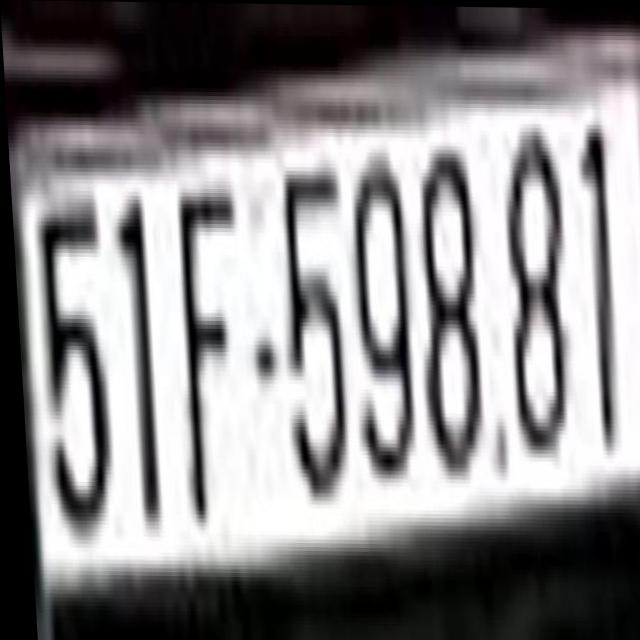1: (107, 183, 155, 522), (576, 115, 619, 457)
5: (275, 162, 351, 508), (33, 190, 108, 525)
8: (409, 148, 484, 483), (499, 126, 571, 460)
9: (347, 143, 412, 478)
F: (170, 184, 249, 534)
